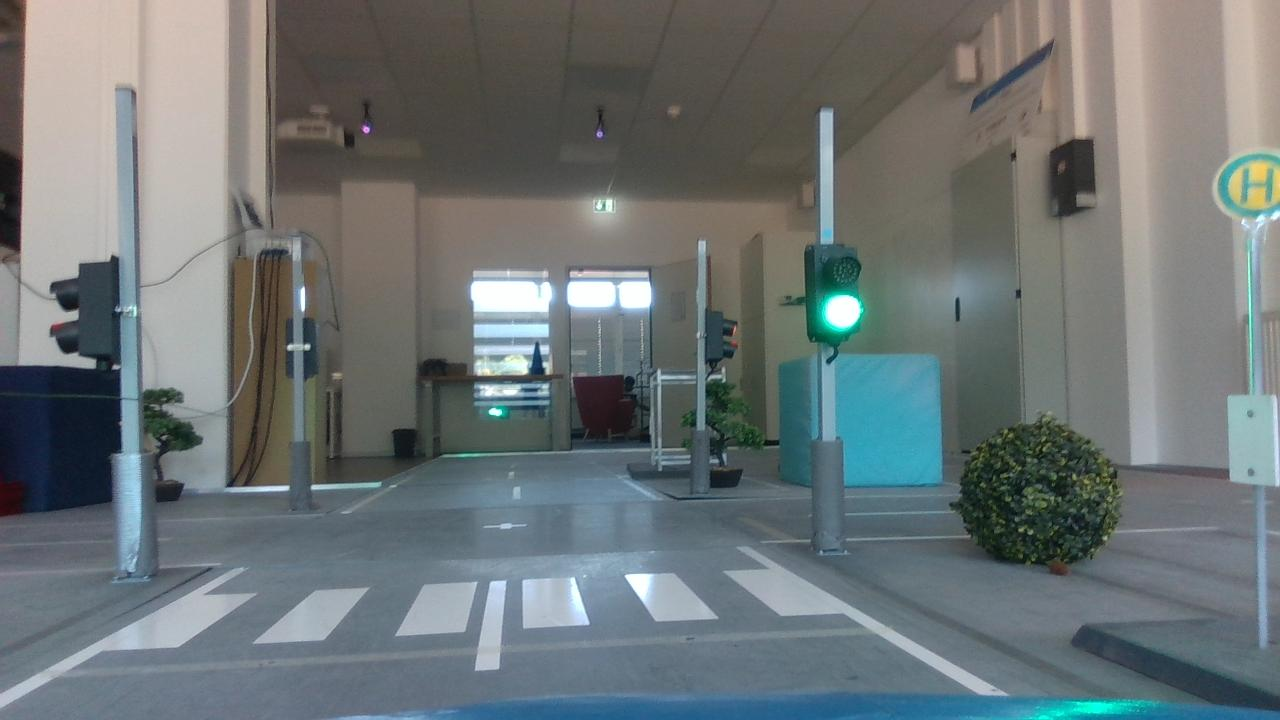traffic_light_green: (798, 236, 872, 352)
